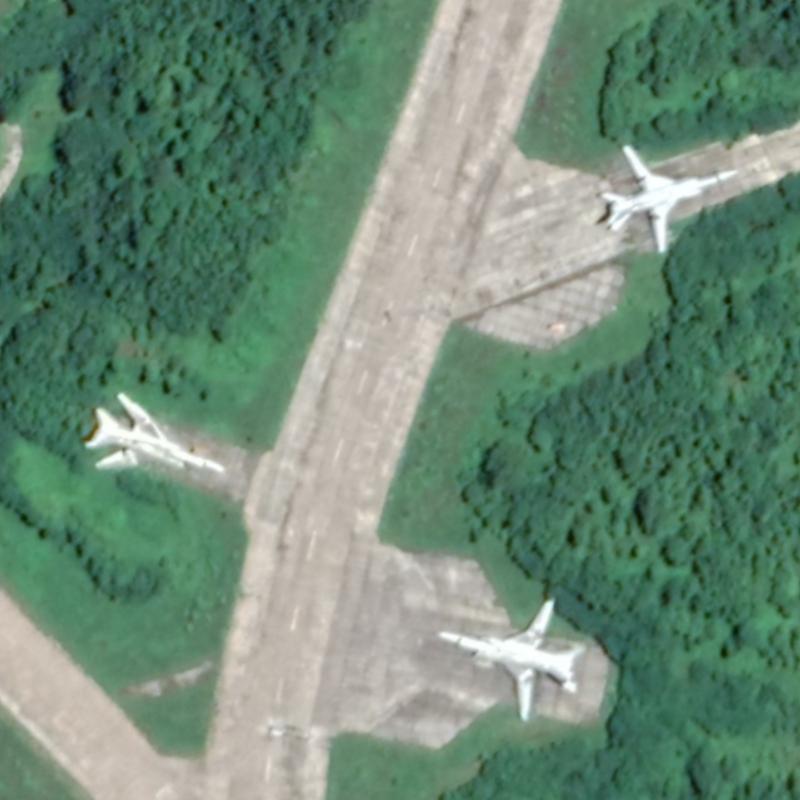A12: (433, 593, 587, 725), (593, 141, 743, 257), (80, 391, 231, 476)
